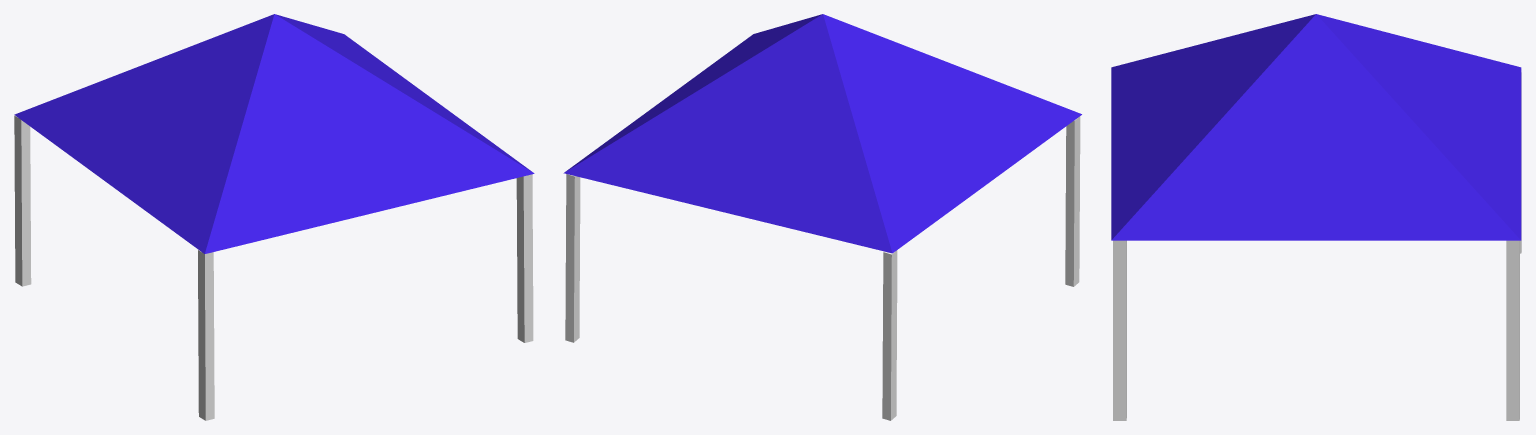
File: tent.glb
The picture shows the model from 3 angles, left to right: view 1: azimuth 30°, elevation 25°; view 2: azimuth 150°, elevation 25°; view 3: azimuth 270°, elevation 25°; orthographic projection. The views are drawn at different scales.
Parts seen in each view (by area): view 1: Cube; view 2: Cube; view 3: Cube.
Part boxes in pixels (x1,y1,x2,y2): Cube: (14,14,534,420); Cube: (563,14,1081,420); Cube: (1111,14,1521,420).
Bounding box in the file's own units: 4 × 3.46 × 4.
